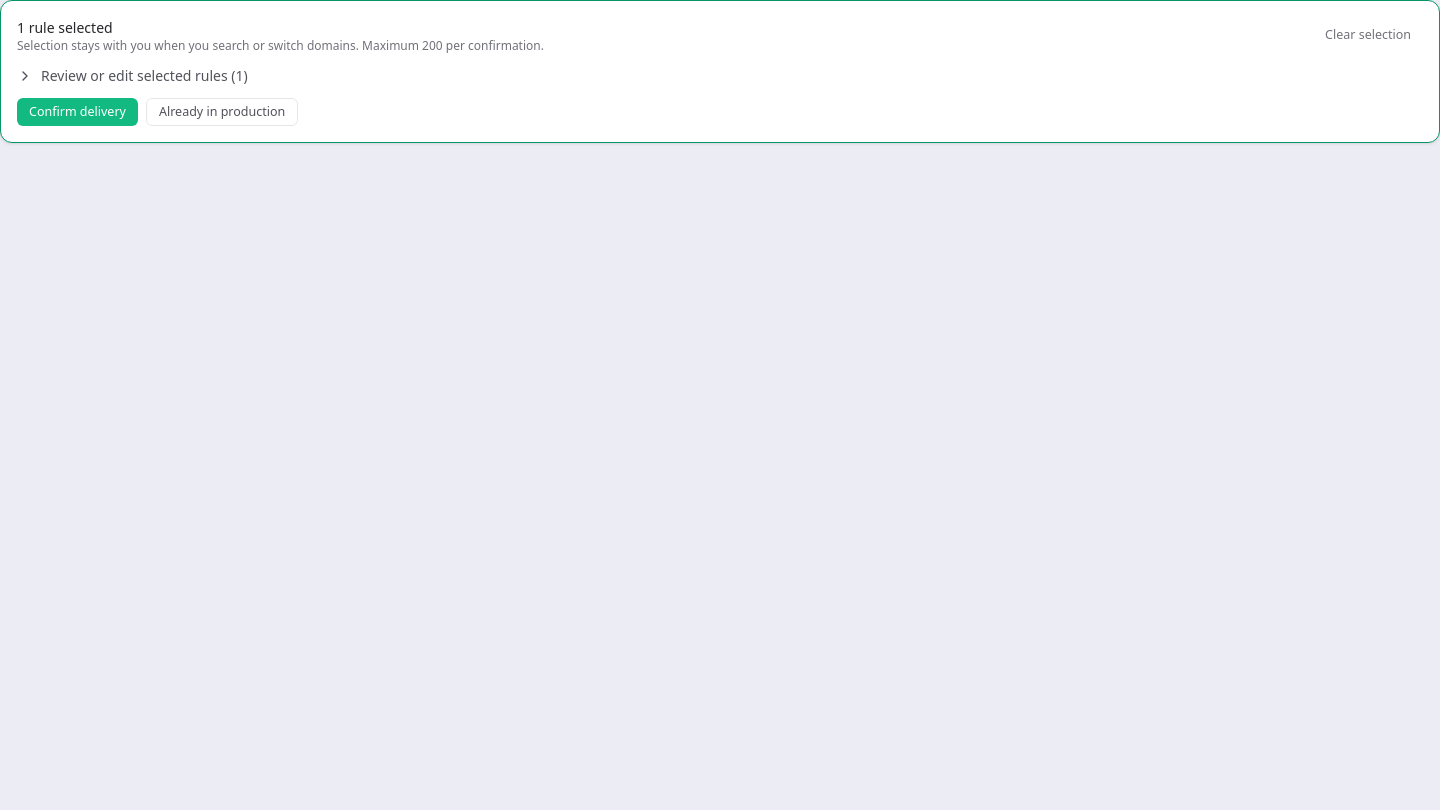
it: Intent delivery UI › keeps the delivery form available in an automatic workspace and says who records normally
This screenshot has width=1440, height=810.
Click the button "Confirm delivery" at (78,112), box [17,98,138,126]
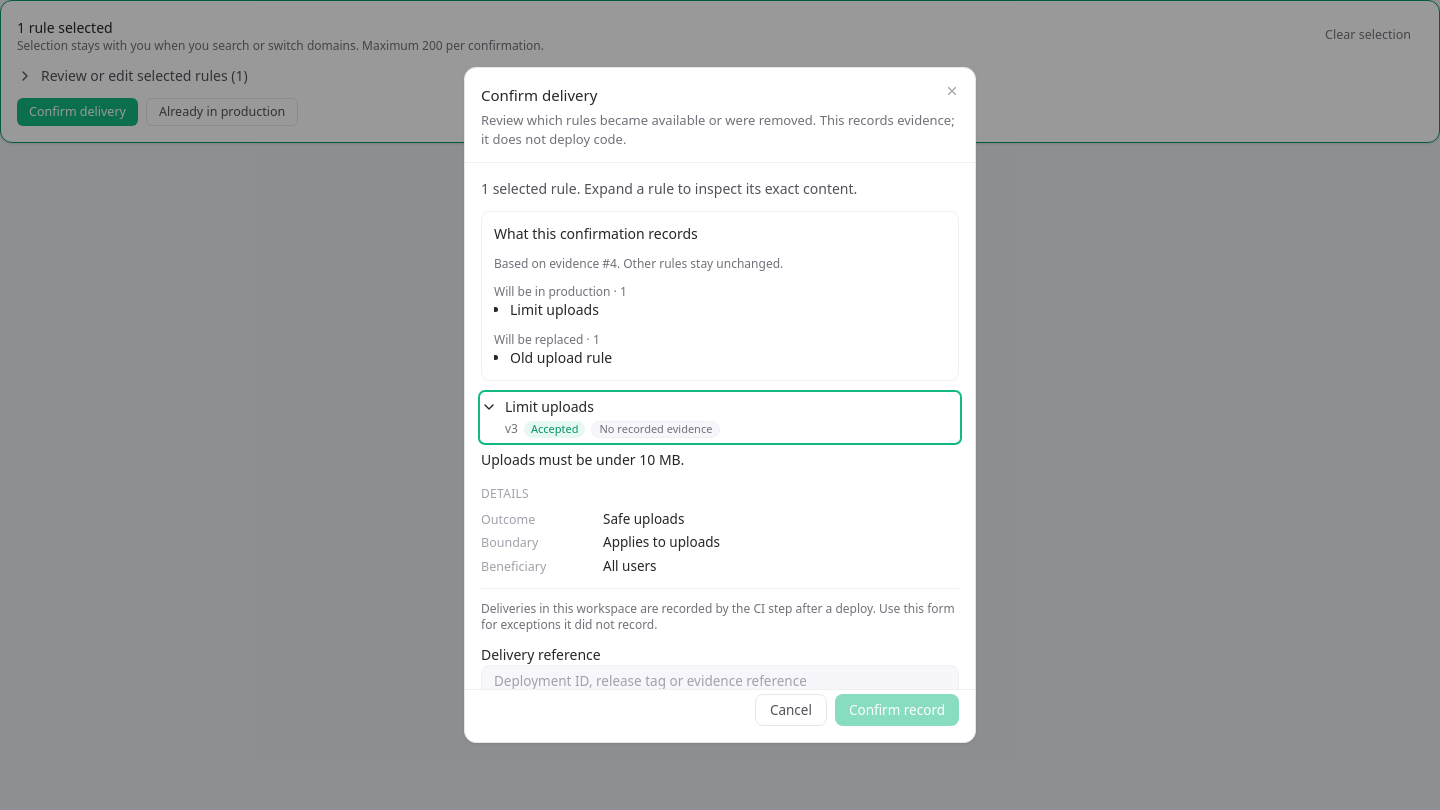
Check: the dialog is shown, box [464,67,976,743]
Check: the text "CI step after a deploy" is shown, box [753,600,873,617]
Check: the field labelled "Delivery reference" is shown, box [481,665,959,689]
